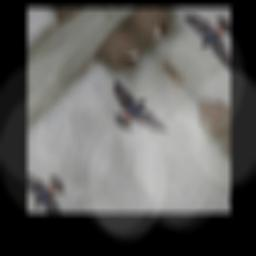Swallow: (94, 74, 174, 155)
